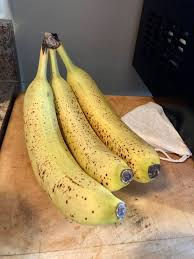banana: (22, 28, 161, 224)
